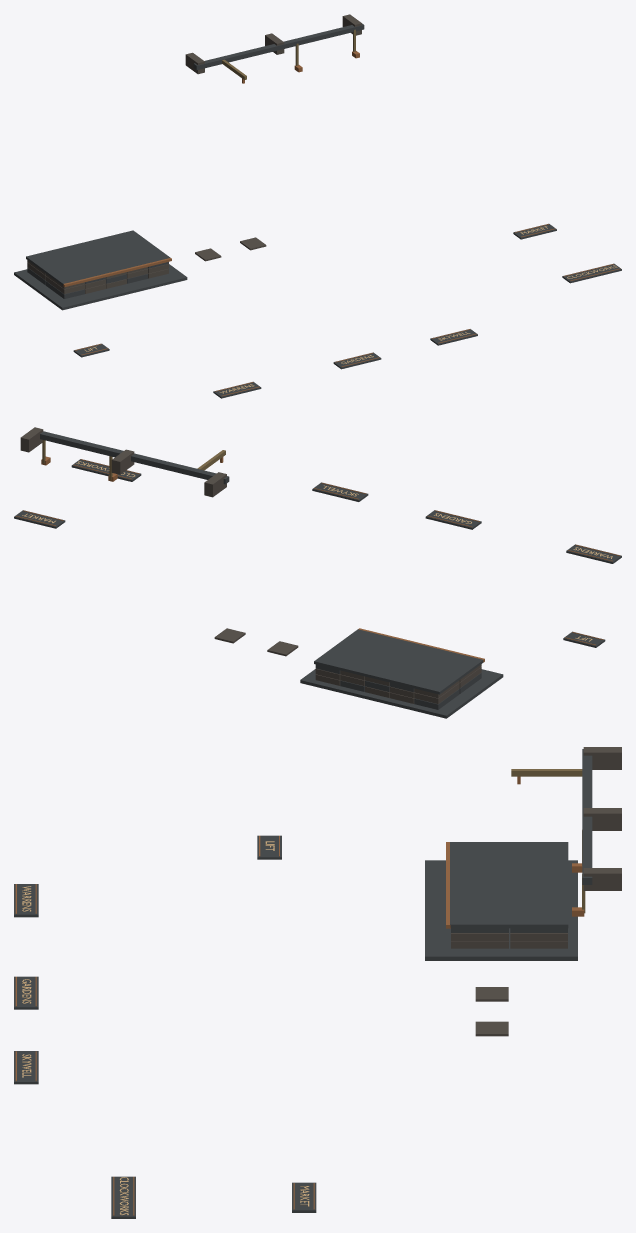
File: R02-architecture.glb
3 renders of one model, top to bottom at view 1: azimuth 30°, elevation 25°; view 2: azimuth 150°, elevation 25°; view 3: azimuth 270°, elevation 25°, orthographic. The views are drawn at different scales.
Parts seen in each view (by area): view 1: Hearth • fitted upper stone, Hearth • basalt service apron, Gallery • horizontal hanging rail; view 2: Hearth • fitted upper stone, Hearth • basalt service apron, Gallery • horizontal hanging rail, R10 • engraved route footplate, R07 • engraved route footplate, R03 • engraved route footplate, R05 • engraved route footplate, R09 • engraved route footplate, Gallery • wall cleat.001, Gallery • wall cleat.002, Gallery • wall cleat; view 3: Hearth • fitted upper stone, Hearth • basalt service apron, Gallery • horizontal hanging rail, R10 • engraved route footplate, Gallery • wall cleat.002, R07 • engraved route footplate, R03 • engraved route footplate, R05 • engraved route footplate, Gallery • wall cleat, Gallery • wall cleat.001, R09 • engraved route footplate.
Part boxes in pixels (left/top/right/bottom): Hearth • fitted upper stone: left=26, top=230, right=170, bottom=285; Hearth • basalt service apron: left=14, top=264, right=187, bottom=310; Gallery • horizontal hanging rail: left=193, top=23, right=364, bottom=69; Hearth • fitted upper stone: left=314, top=629, right=483, bottom=694; Hearth • basalt service apron: left=300, top=669, right=503, bottom=718; Gallery • horizontal hanging rail: left=40, top=431, right=229, bottom=484; R10 • engraved route footplate: left=71, top=459, right=141, bottom=481; R07 • engraved route footplate: left=312, top=482, right=368, bottom=501; R03 • engraved route footplate: left=566, top=544, right=621, bottom=563; R05 • engraved route footplate: left=425, top=510, right=481, bottom=529; R09 • engraved route footplate: left=14, top=510, right=65, bottom=528; Gallery • wall cleat.001: left=111, top=449, right=134, bottom=474; Gallery • wall cleat.002: left=20, top=427, right=43, bottom=452; Gallery • wall cleat: left=204, top=472, right=226, bottom=497; Hearth • fitted upper stone: left=450, top=842, right=568, bottom=928; Hearth • basalt service apron: left=425, top=860, right=577, bottom=960; Gallery • horizontal hanging rail: left=582, top=749, right=592, bottom=884; R10 • engraved route footplate: left=111, top=1176, right=135, bottom=1218; Gallery • wall cleat.002: left=583, top=868, right=621, bottom=890; R07 • engraved route footplate: left=14, top=1051, right=38, bottom=1084; R03 • engraved route footplate: left=14, top=884, right=38, bottom=917; R05 • engraved route footplate: left=14, top=976, right=38, bottom=1009; Gallery • wall cleat: left=583, top=747, right=621, bottom=769; Gallery • wall cleat.001: left=583, top=808, right=621, bottom=830; R09 • engraved route footplate: left=292, top=1182, right=316, bottom=1212.
Bounding box in the file's own units: 11.74 × 3.78 × 7.92.
